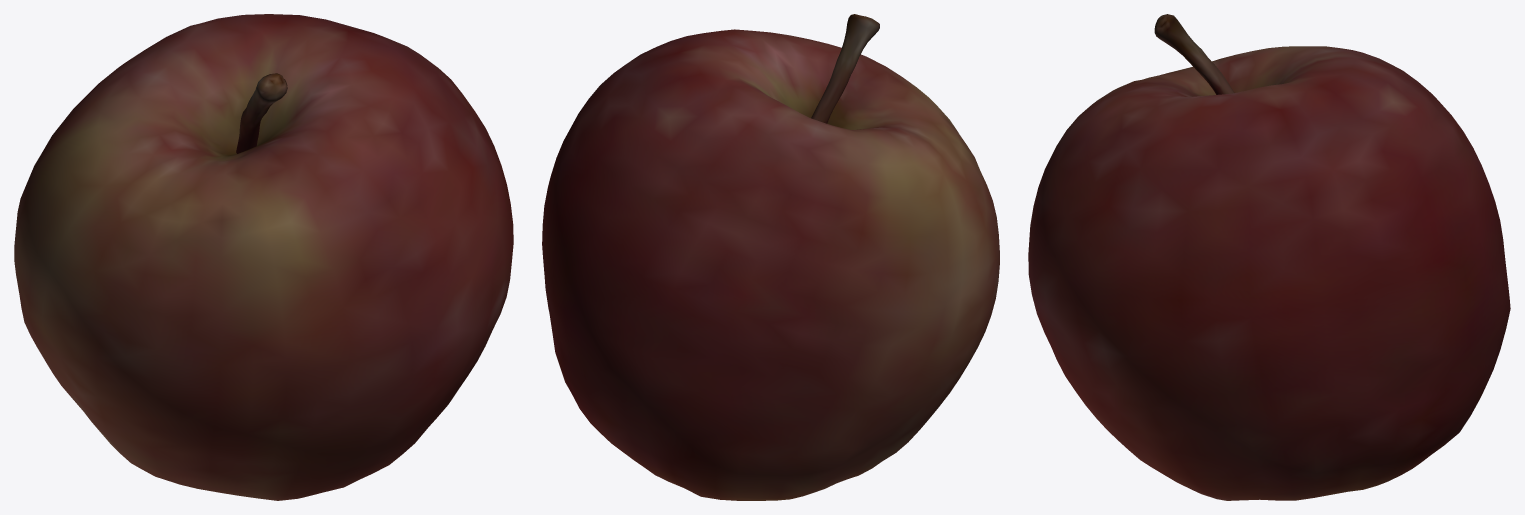
File: apple_1.fbx
The picture shows the model from 3 angles, left to right: view 1: azimuth 30°, elevation 25°; view 2: azimuth 150°, elevation 25°; view 3: azimuth 270°, elevation 25°; orthographic projection. The views are drawn at different scales.
Visible parts, largest first — view 1: apple_1; view 2: apple_1; view 3: apple_1.
Boxes of the visible parts, x1,y1,x2,y2 form: apple_1: (14,14,513,500); apple_1: (542,14,999,500); apple_1: (1028,14,1510,500).
Bounding box in the file's own units: 10.97 × 10.71 × 10.95.
